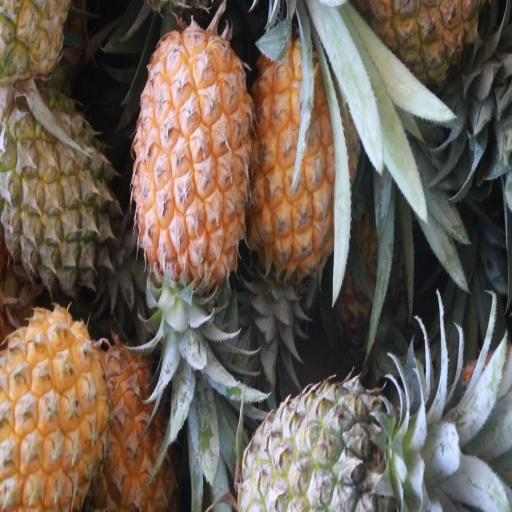------------------------------: (0, 83, 113, 288)
Pineapple - v8 v1: (132, 29, 252, 283), (251, 30, 356, 263), (0, 314, 106, 510)
